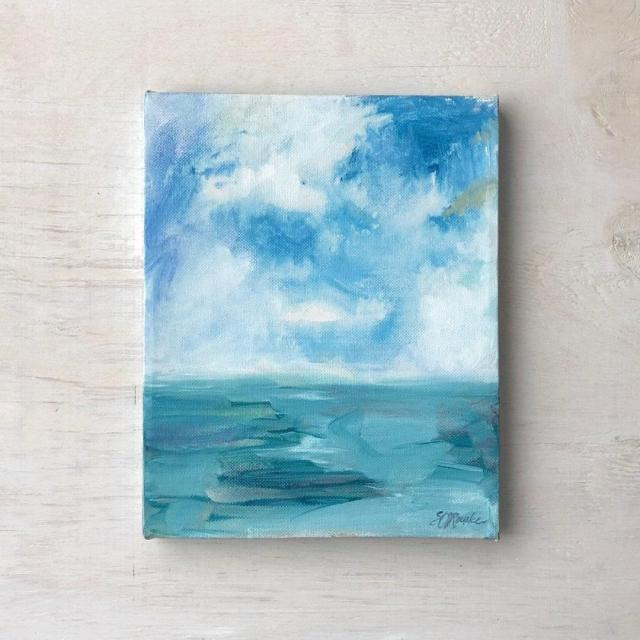painting: (143, 93, 497, 537)
